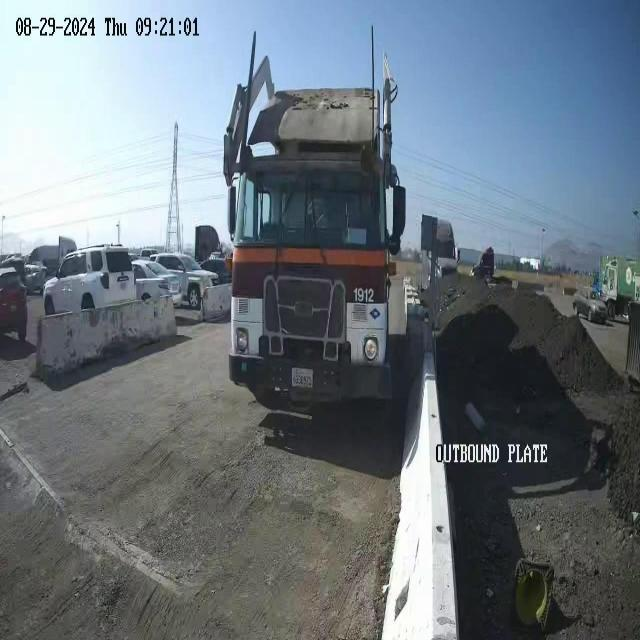TRUCK_OUT: (222, 24, 425, 417)
